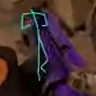hacks_2: (20, 9, 49, 80)
